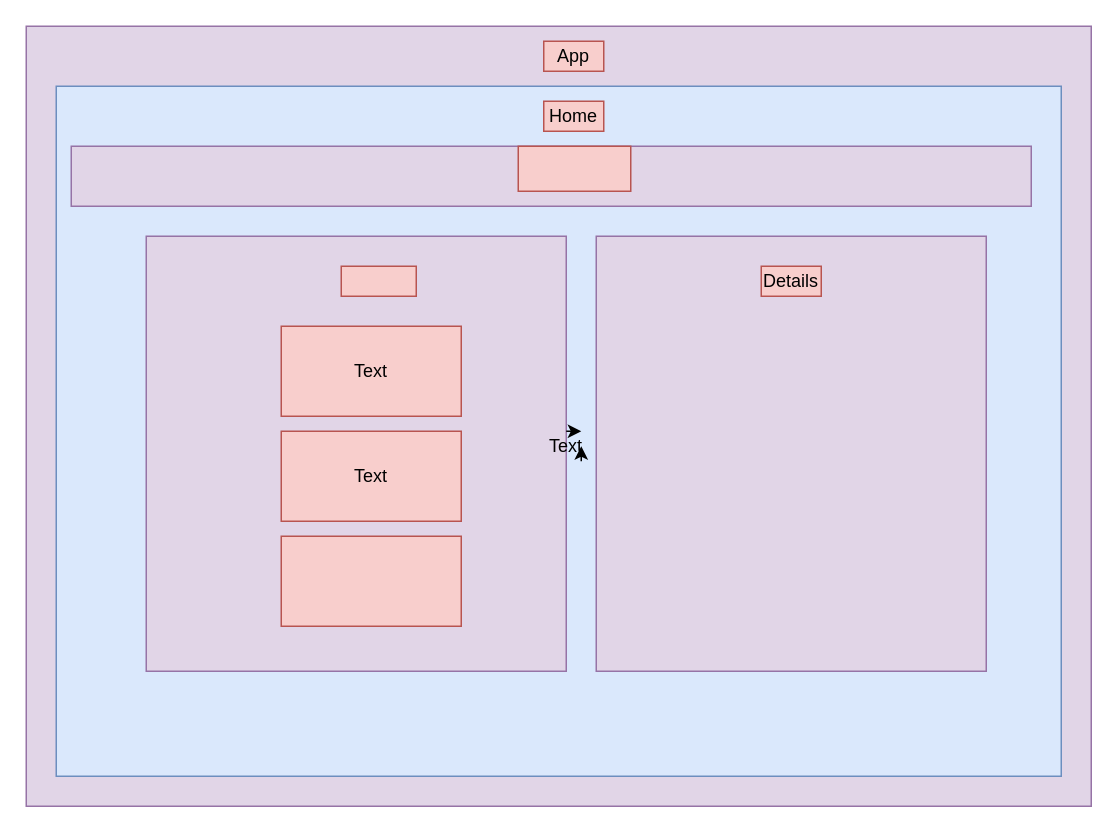
The diagram is 1118 pixels wide and 833 high, and some of its shapes have lost their labels. The centre of each missing label's shape, as x and y in pixels:
Reading: pixel 378 280
Welcome Page: pixel 574 168
